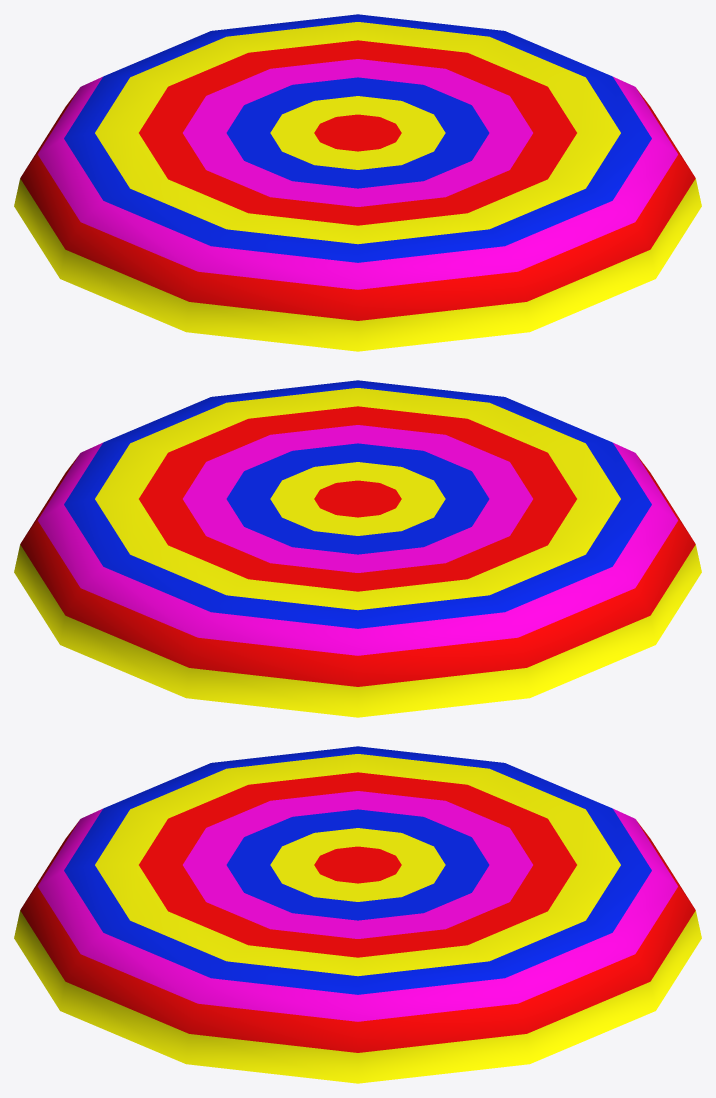
The model's file is Player Platform.FBX.
3 renders of one model, top to bottom at view 1: azimuth 30°, elevation 25°; view 2: azimuth 150°, elevation 25°; view 3: azimuth 270°, elevation 25°, orthographic.
Parts seen in each view (by area): view 1: Player Platform; view 2: Player Platform; view 3: Player Platform.
Boxes of the visible parts, <box> form: Player Platform: <box>14,14,701,351</box>; Player Platform: <box>14,380,701,717</box>; Player Platform: <box>14,746,701,1083</box>.
Bounding box in the file's own units: 91.08 × 10.7 × 91.08.
